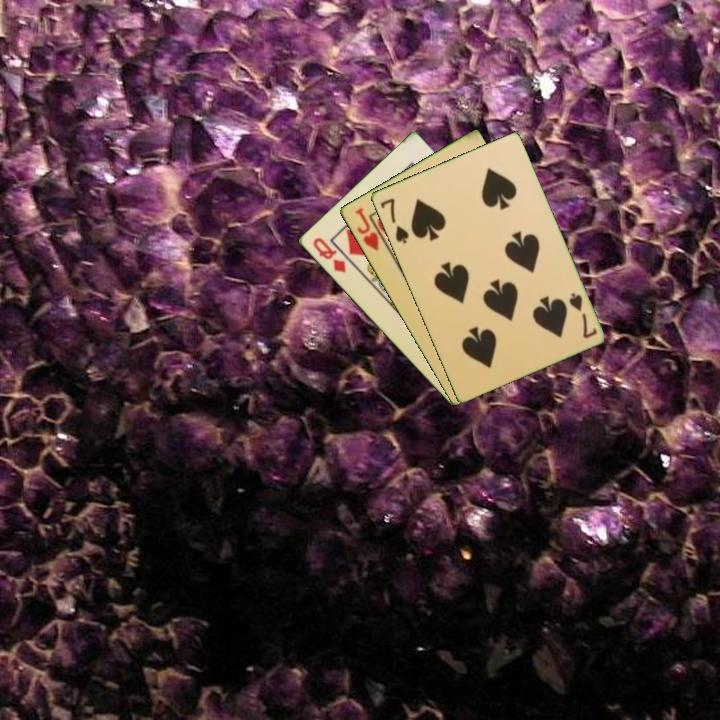7s: (376, 194, 411, 246), (565, 289, 600, 341)
Jh: (351, 204, 390, 254)
Qd: (309, 234, 349, 276)
